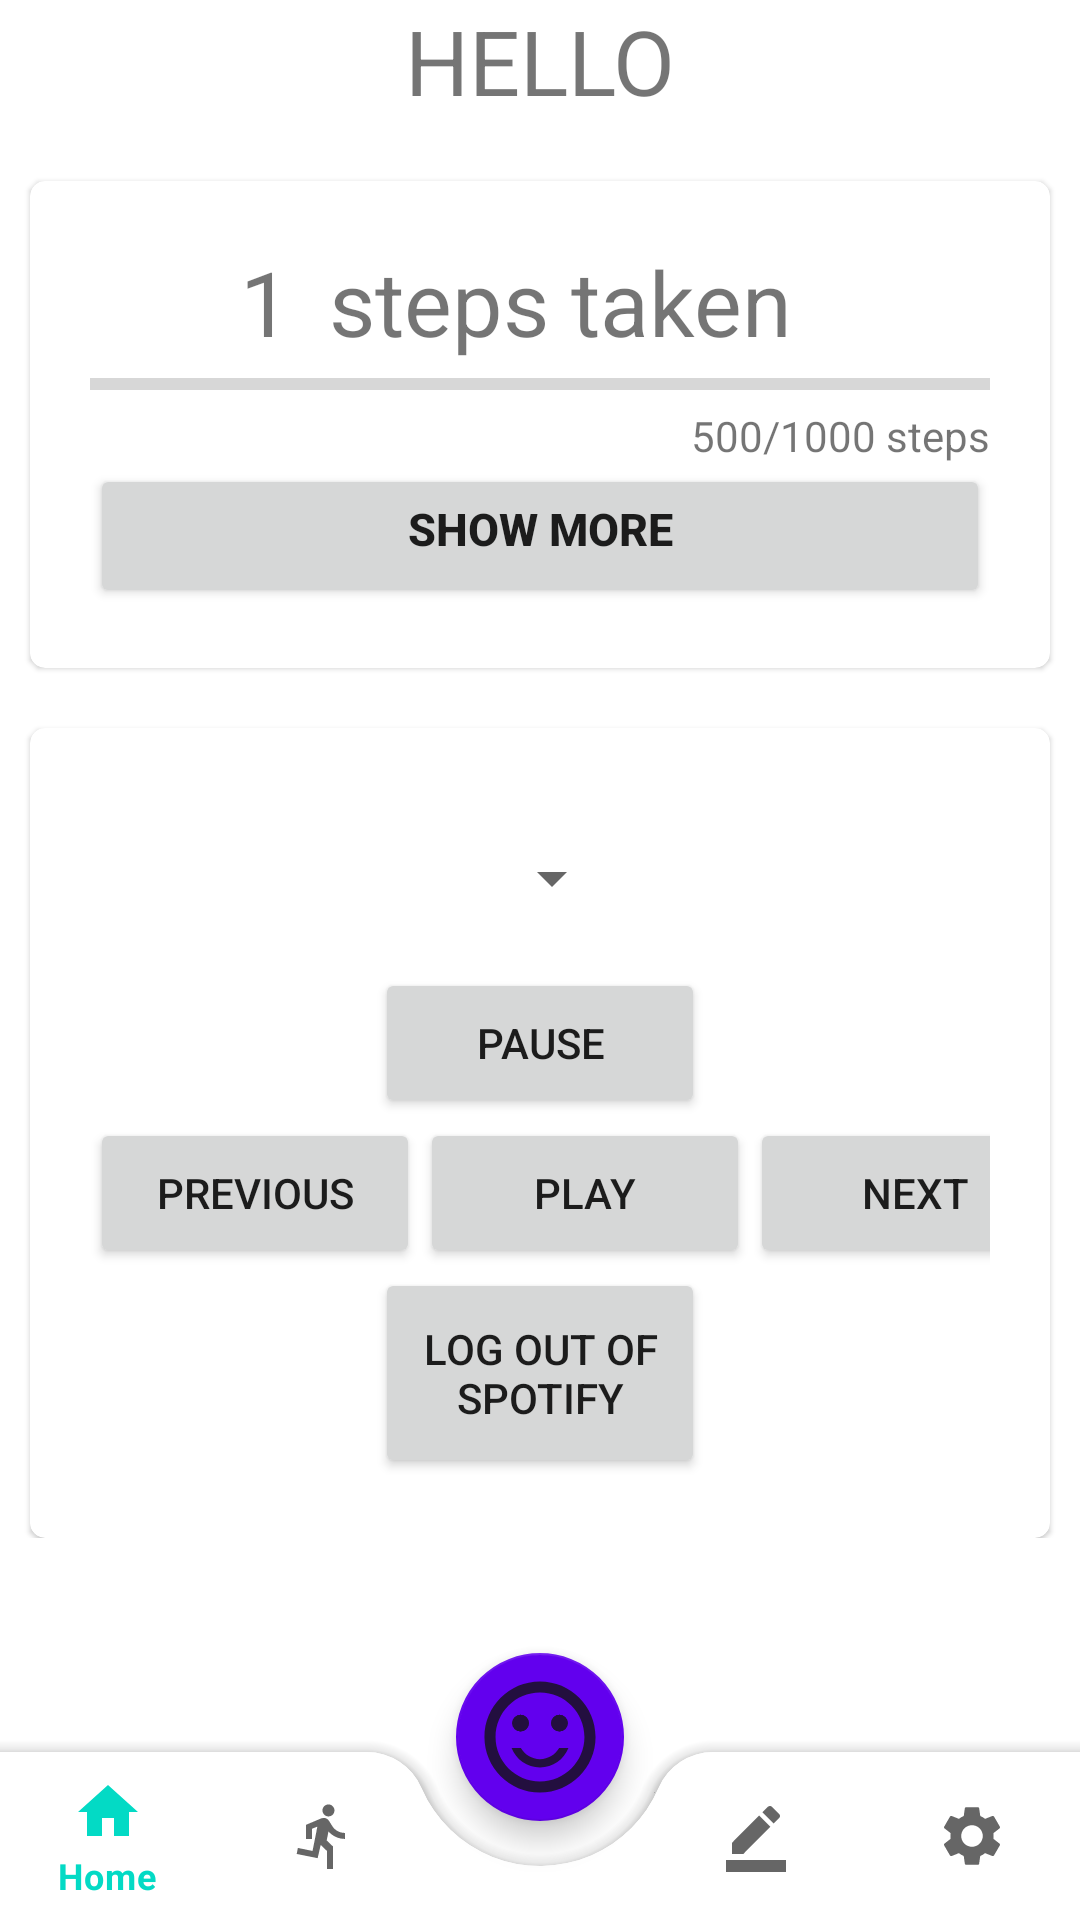

Icons on this 1080px×1920px Android screen, each with its box as (x1=x1, y1=y1, x2=x2, y2=y2):
smiley: (x1=456, y1=1668, x2=624, y2=1836)
